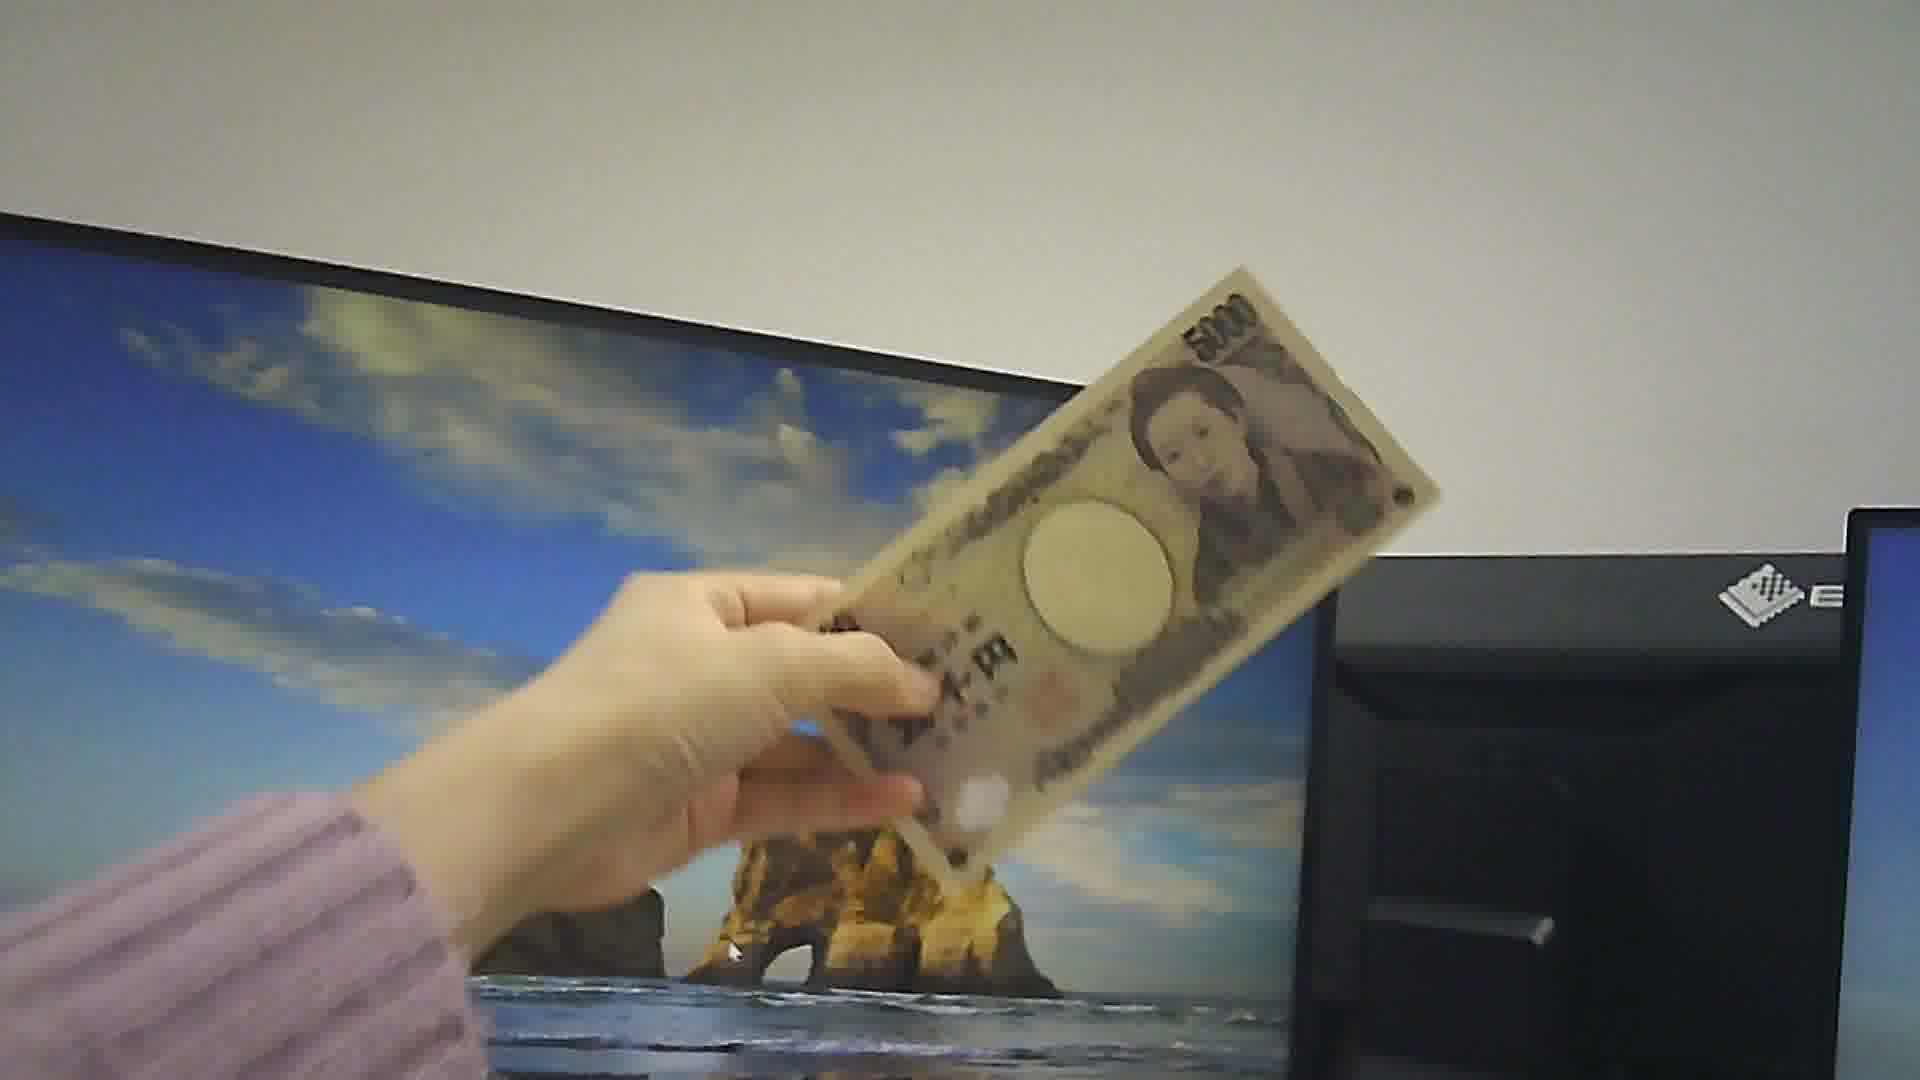5,000 Yen: (750, 272, 1424, 861)
